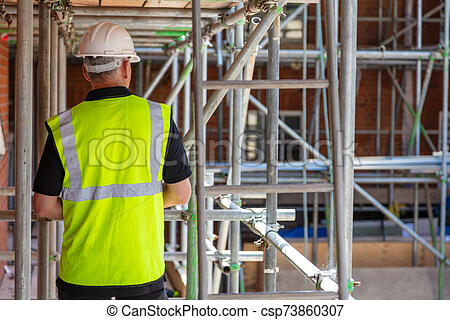With Helmet: (70, 18, 145, 95)
